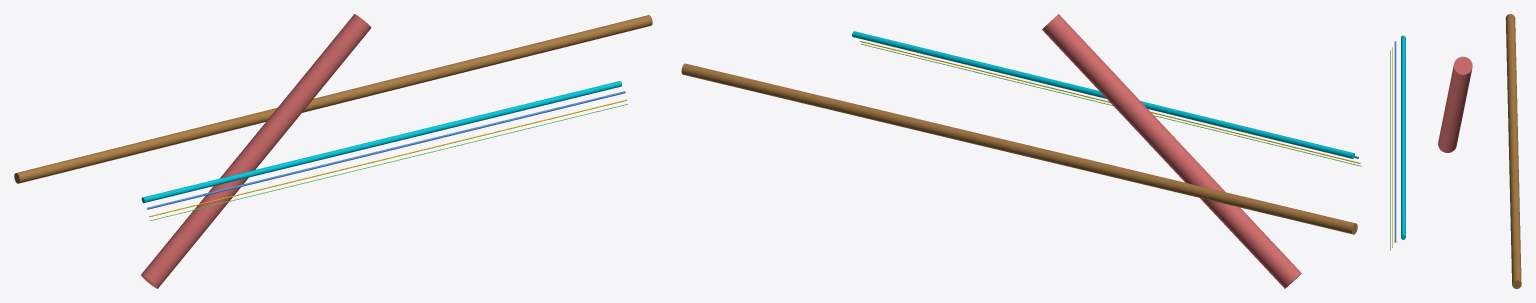
File: sample_uudm_utilities.glb
The picture shows the model from 3 angles, left to right: view 1: azimuth 30°, elevation 25°; view 2: azimuth 150°, elevation 25°; view 3: azimuth 270°, elevation 25°; orthographic projection. The views are drawn at different scales.
Parts seen in each view (by area): view 1: MRT-NSL-001, DTSS-MB-01, DCS-MB-001, WAT-POT-01, PWR-22KV-01, TEL-FIBER-01; view 2: DTSS-MB-01, MRT-NSL-001, DCS-MB-001, PWR-22KV-01, TEL-FIBER-01; view 3: DTSS-MB-01, MRT-NSL-001, DCS-MB-001, WAT-POT-01, TEL-FIBER-01, PWR-22KV-01.
Part boxes in pixels (x1=…): MRT-NSL-001: x1=141, y1=14, x2=371, y2=288; DTSS-MB-01: x1=14, y1=15, x2=652, y2=183; DCS-MB-001: x1=141, y1=81, x2=621, y2=202; WAT-POT-01: x1=147, y1=91, x2=625, y2=209; PWR-22KV-01: x1=149, y1=99, x2=627, y2=216; TEL-FIBER-01: x1=150, y1=104, x2=627, y2=220; DTSS-MB-01: x1=681, y1=63, x2=1357, y2=234; MRT-NSL-001: x1=1042, y1=14, x2=1301, y2=288; DCS-MB-001: x1=852, y1=31, x2=1354, y2=158; PWR-22KV-01: x1=860, y1=41, x2=1360, y2=163; TEL-FIBER-01: x1=861, y1=44, x2=1361, y2=166; DTSS-MB-01: x1=1505, y1=14, x2=1521, y2=288; MRT-NSL-001: x1=1438, y1=56, x2=1472, y2=152; DCS-MB-001: x1=1401, y1=35, x2=1405, y2=239; WAT-POT-01: x1=1394, y1=41, x2=1396, y2=242; TEL-FIBER-01: x1=1390, y1=50, x2=1390, y2=250; PWR-22KV-01: x1=1392, y1=47, x2=1392, y2=247.
Bounding box in the file's own units: 200 × 64.56 × 41.6.
